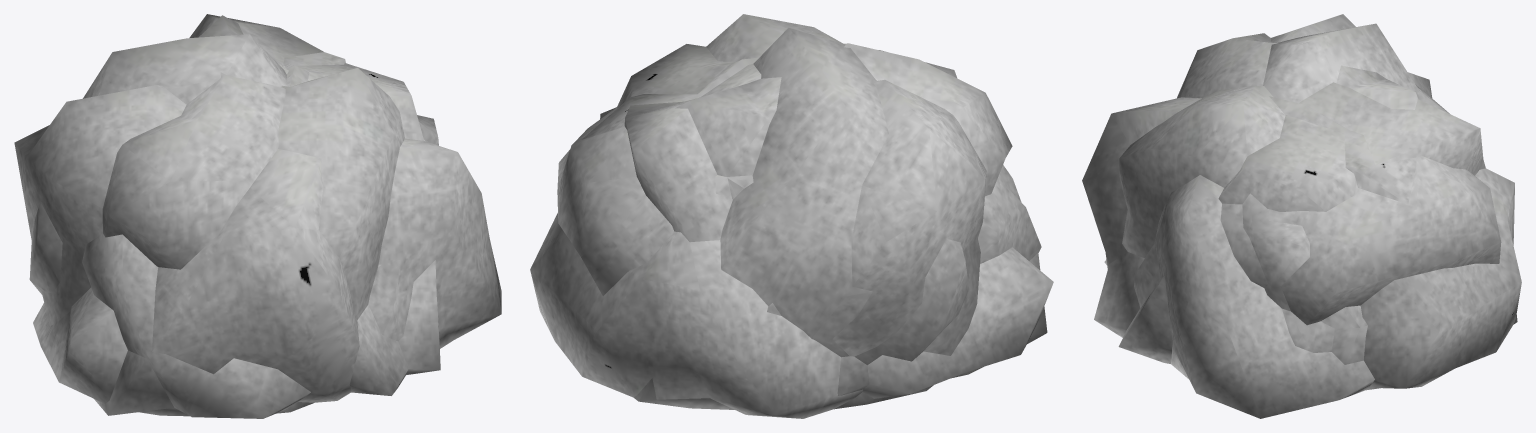
Rendered from rocks.glb.
3 views of the same model, side by side, from view 1: azimuth 30°, elevation 25°; view 2: azimuth 150°, elevation 25°; view 3: azimuth 270°, elevation 25° (orthographic). The views are drawn at different scales.
Parts seen in each view (by area): view 1: rock_5, rock_2, rock_4, rock_1, rock_0, rock_3; view 2: rock_4, rock_5, rock_2, rock_0, rock_3, rock_1; view 3: rock_4, rock_5, rock_3, rock_2, rock_0, rock_1.
Boxes of the visible parts, bbox=[...] form: rock_5: bbox=[94, 52, 359, 415]; rock_2: bbox=[14, 67, 438, 326]; rock_4: bbox=[29, 34, 501, 348]; rock_1: bbox=[102, 15, 408, 395]; rock_0: bbox=[33, 14, 440, 416]; rock_3: bbox=[82, 138, 427, 418]; rock_4: bbox=[633, 27, 969, 409]; rock_5: bbox=[530, 50, 1047, 418]; rock_2: bbox=[600, 14, 986, 409]; rock_0: bbox=[617, 44, 1053, 398]; rock_3: bbox=[557, 107, 1041, 295]; rock_1: bbox=[675, 43, 1012, 395]; rock_4: bbox=[1134, 23, 1517, 418]; rock_5: bbox=[1082, 96, 1521, 388]; rock_3: bbox=[1104, 155, 1501, 325]; rock_2: bbox=[1119, 14, 1432, 364]; rock_0: bbox=[1118, 82, 1485, 363]; rock_1: bbox=[1094, 33, 1418, 352].
Size of the model in its own units: 1.85 by 1.17 by 1.72.
Materials: 1 (1 with a texture image).
